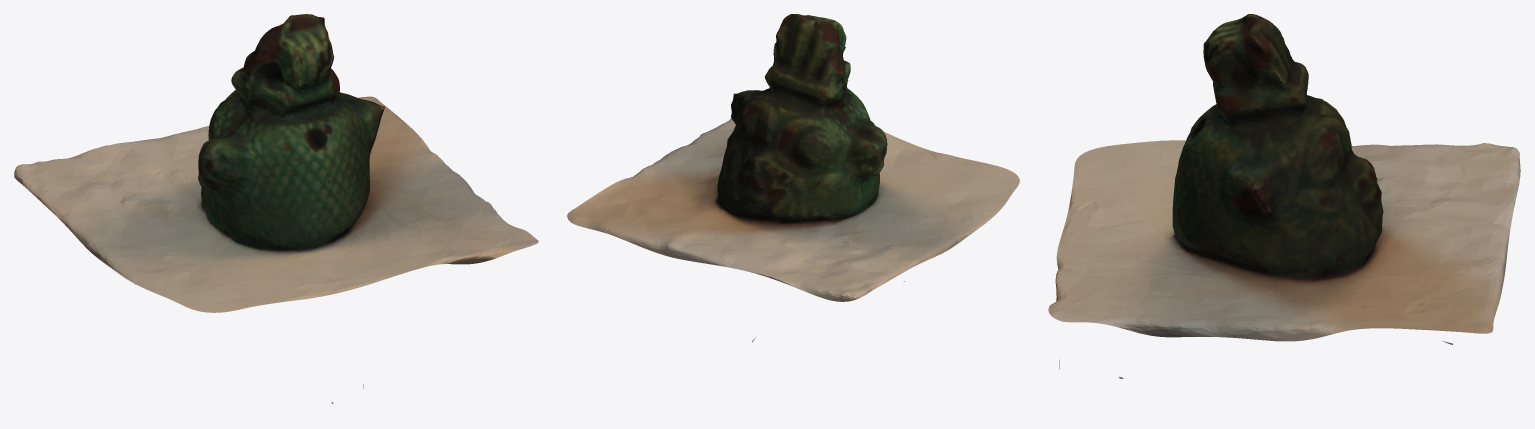
The model's file is Bes.fbx.
3 renders of one model, left to right at view 1: azimuth 30°, elevation 25°; view 2: azimuth 150°, elevation 25°; view 3: azimuth 270°, elevation 25°, orthographic. The views are drawn at different scales.
Visible parts, largest first — view 1: Texture_0; view 2: Texture_0; view 3: Texture_0.
Part boxes in pixels (box(x1,y1,x2,y2)): Texture_0: box(14, 14, 538, 312); Texture_0: box(567, 14, 1019, 301); Texture_0: box(1048, 14, 1520, 341).
Size of the model in its own units: 1432 by 1380 by 1441.
Materials: 2 (1 with a texture image).
